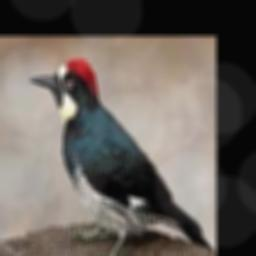Woodpecker: (28, 58, 214, 256)
